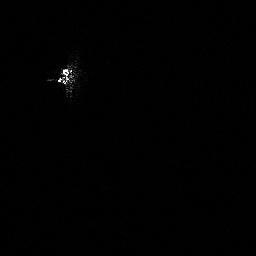ship: (46, 58, 84, 97)
